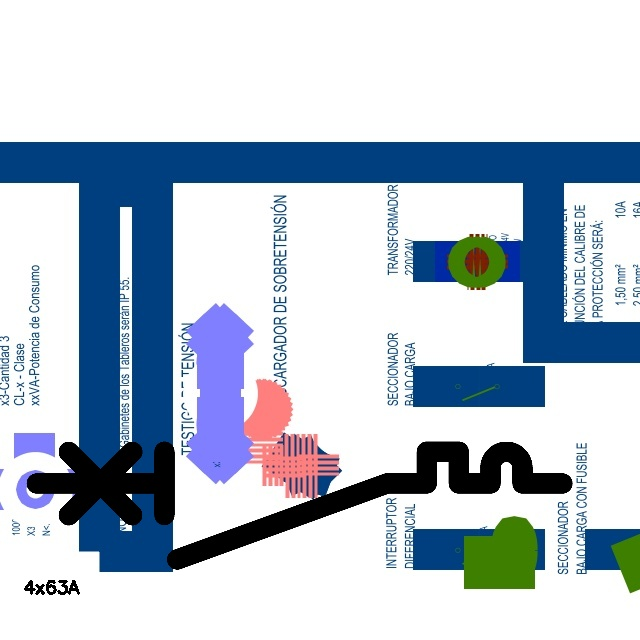interruptor_termomagnetico: (23, 438, 576, 573)
